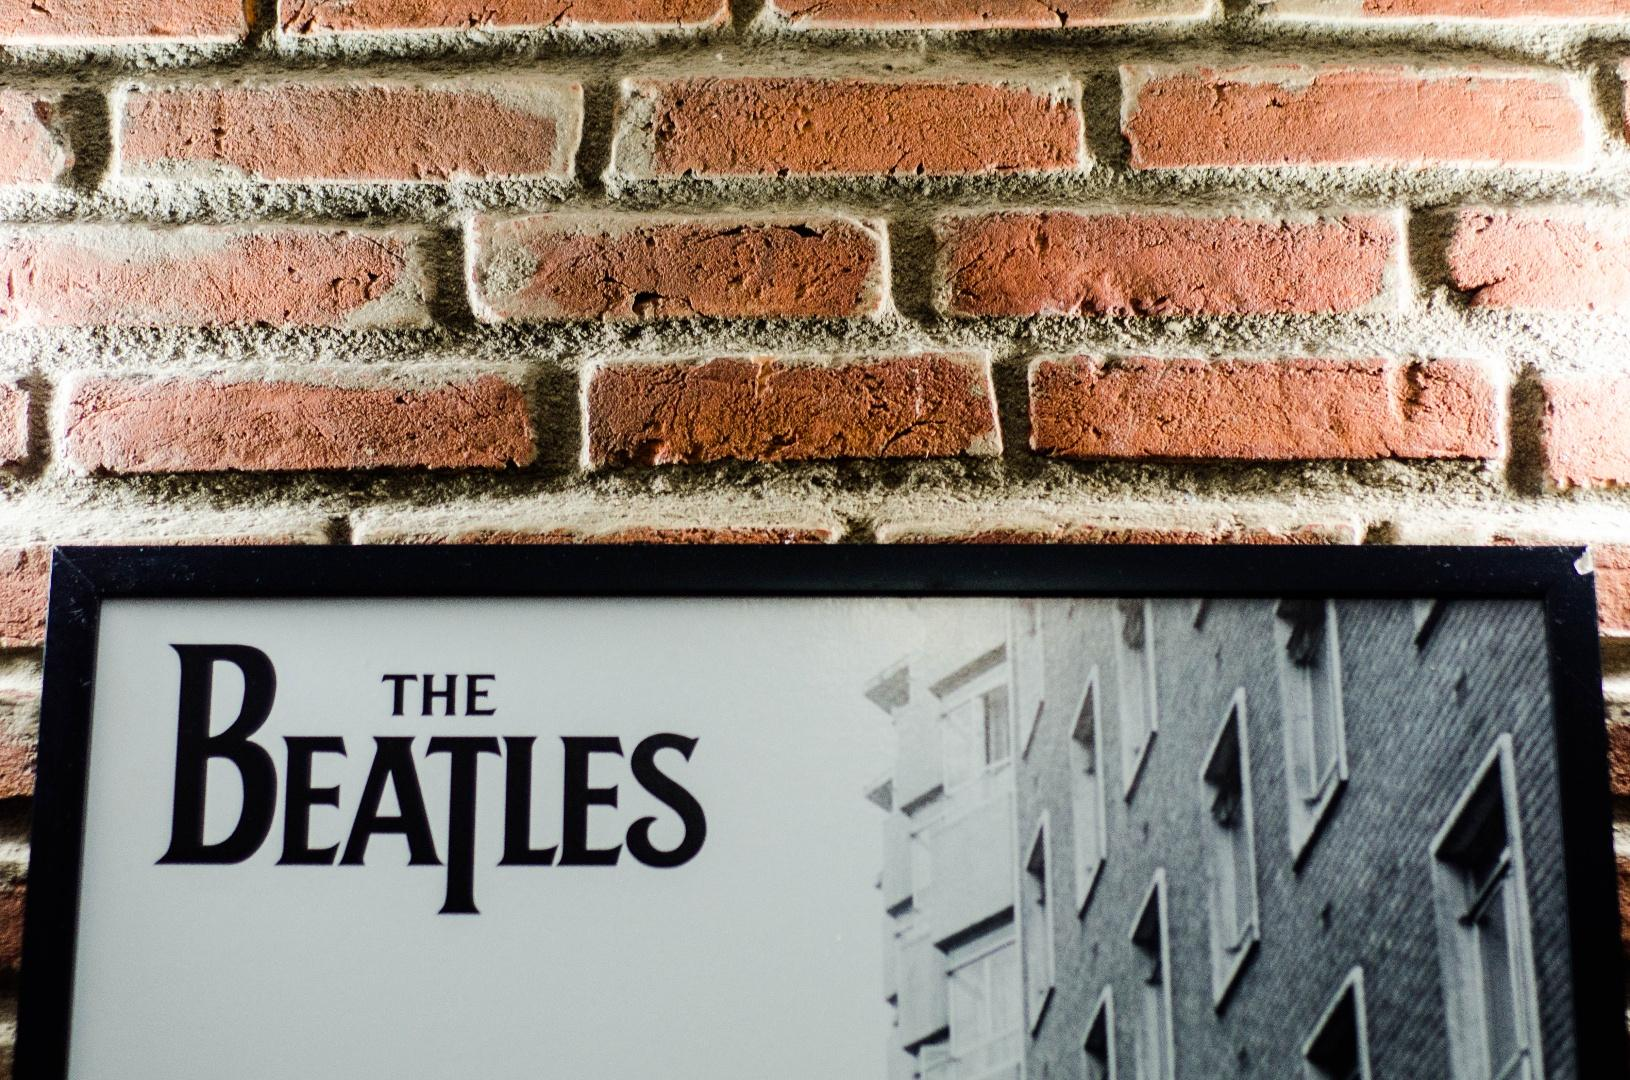biological: (1029, 979, 1388, 1080)
